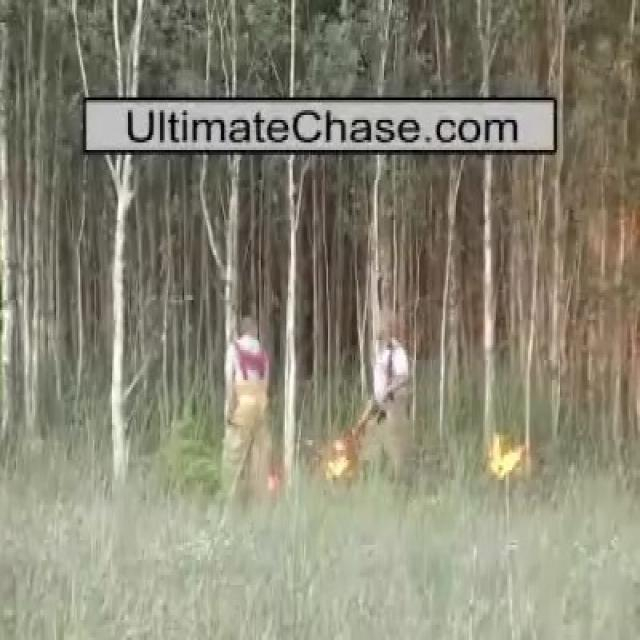fire: (489, 439, 524, 476), (327, 436, 352, 479)
